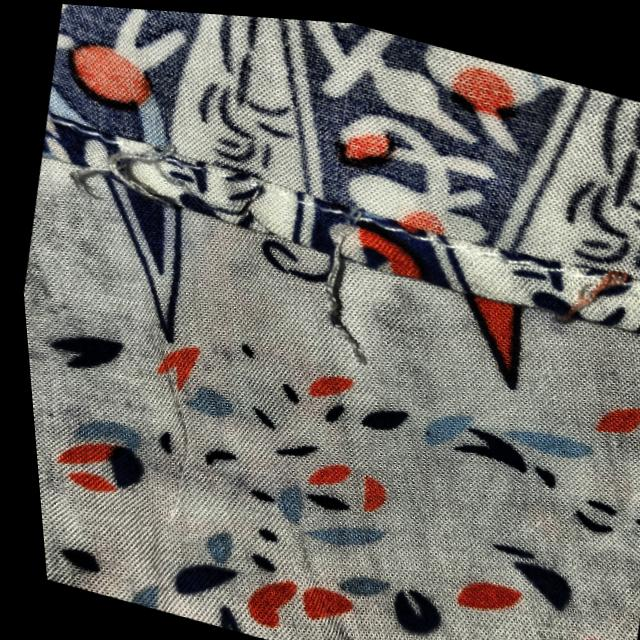Stitch: (255, 171, 412, 399), (36, 79, 210, 265), (491, 204, 640, 378)
